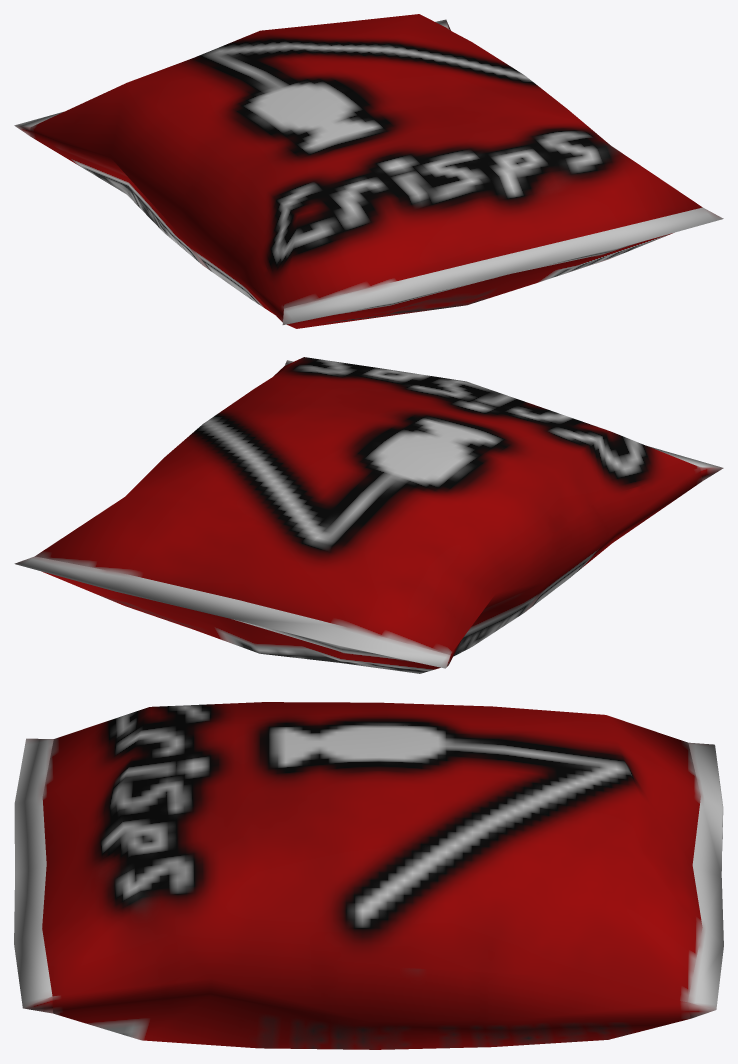
File: crisps_small.fbx
3 renders of one model, top to bottom at view 1: azimuth 30°, elevation 25°; view 2: azimuth 150°, elevation 25°; view 3: azimuth 270°, elevation 25°, orthographic. The views are drawn at different scales.
Parts seen in each view (by area): view 1: crisps.001; view 2: crisps.001; view 3: crisps.001.
Boxes of the visible parts, x1=… form: crisps.001: x1=14, y1=14, x2=723, y2=328; crisps.001: x1=14, y1=357, x2=723, y2=673; crisps.001: x1=14, y1=702, x2=723, y2=1049.
Size of the model in its own units: 6.55 by 2.36 by 7.29.
Materials: 1 (1 with a texture image).
